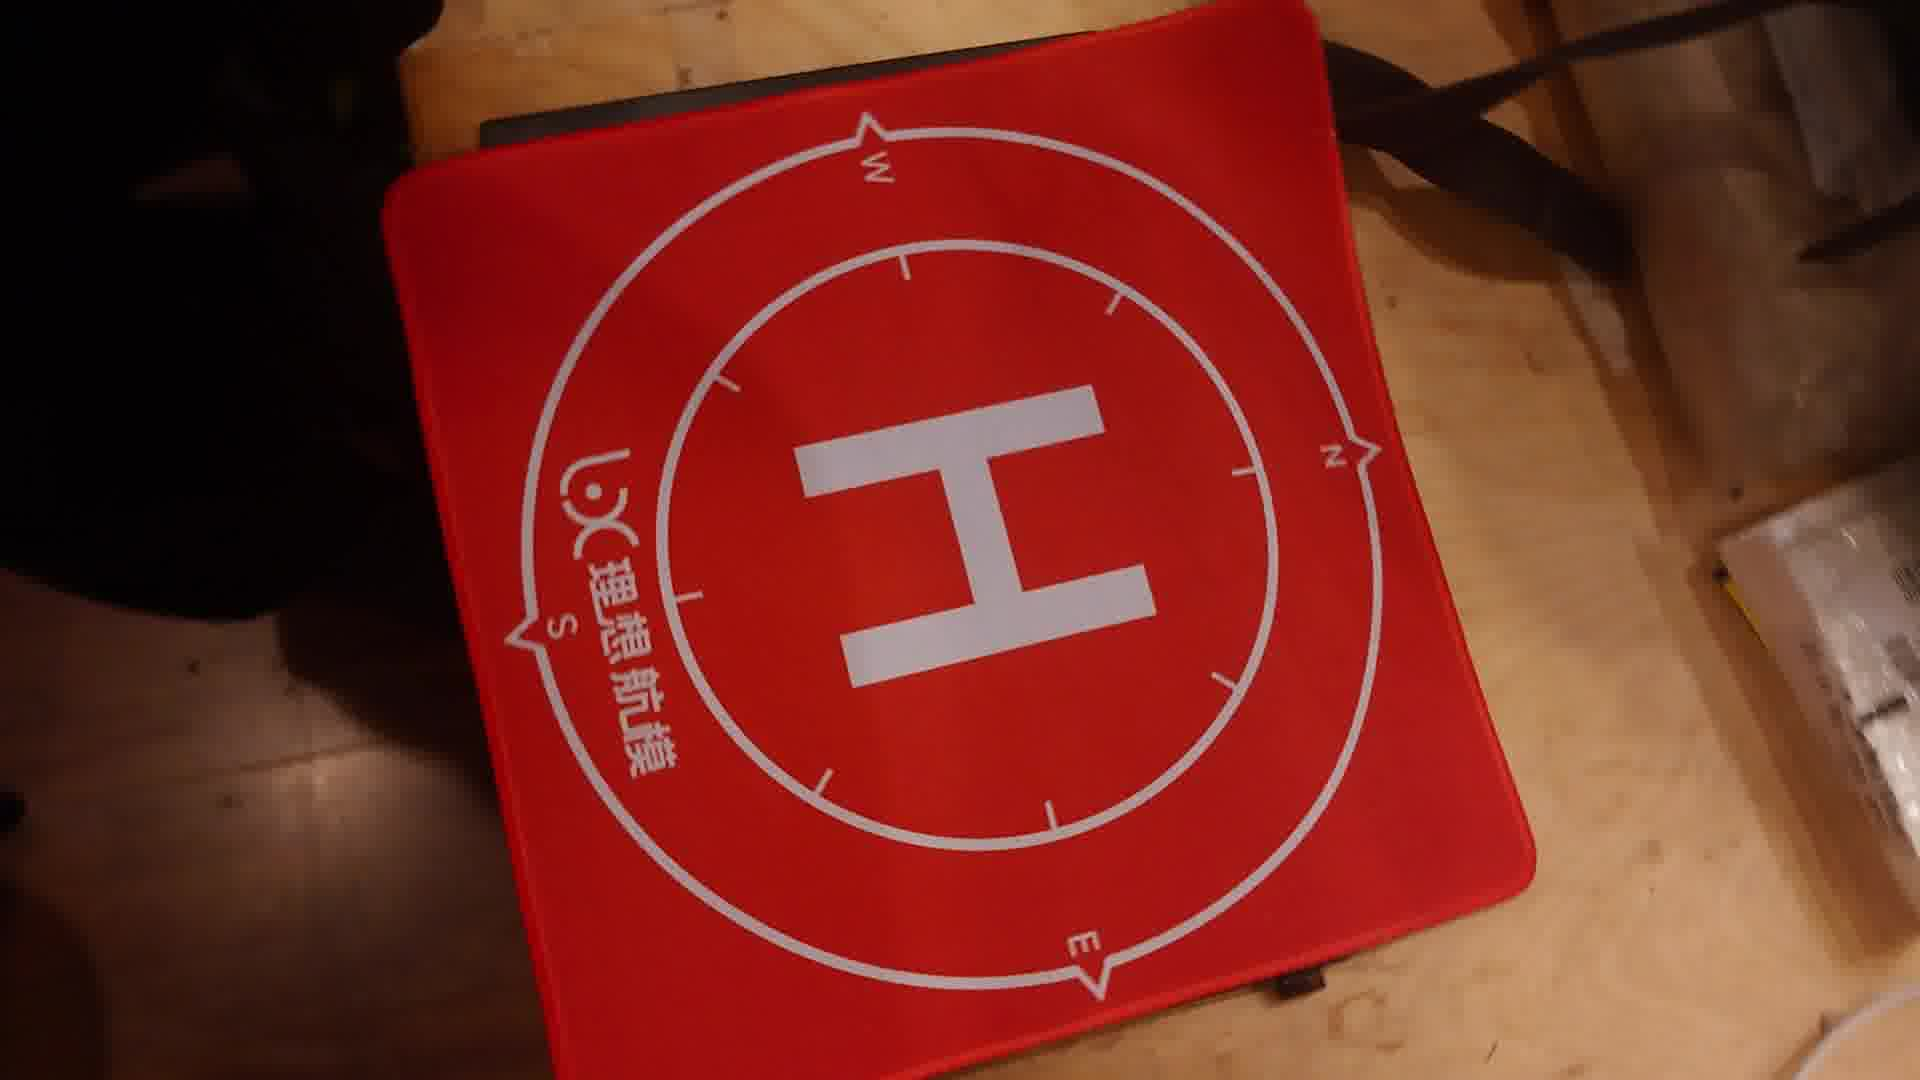H: (798, 381, 1159, 691)
